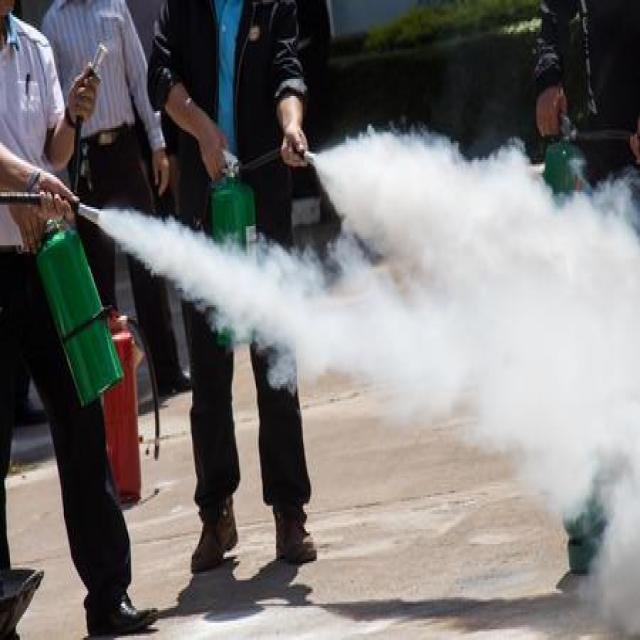fire_extinguisher: (515, 97, 638, 372), (200, 136, 328, 355), (0, 186, 125, 410), (88, 298, 166, 511)
